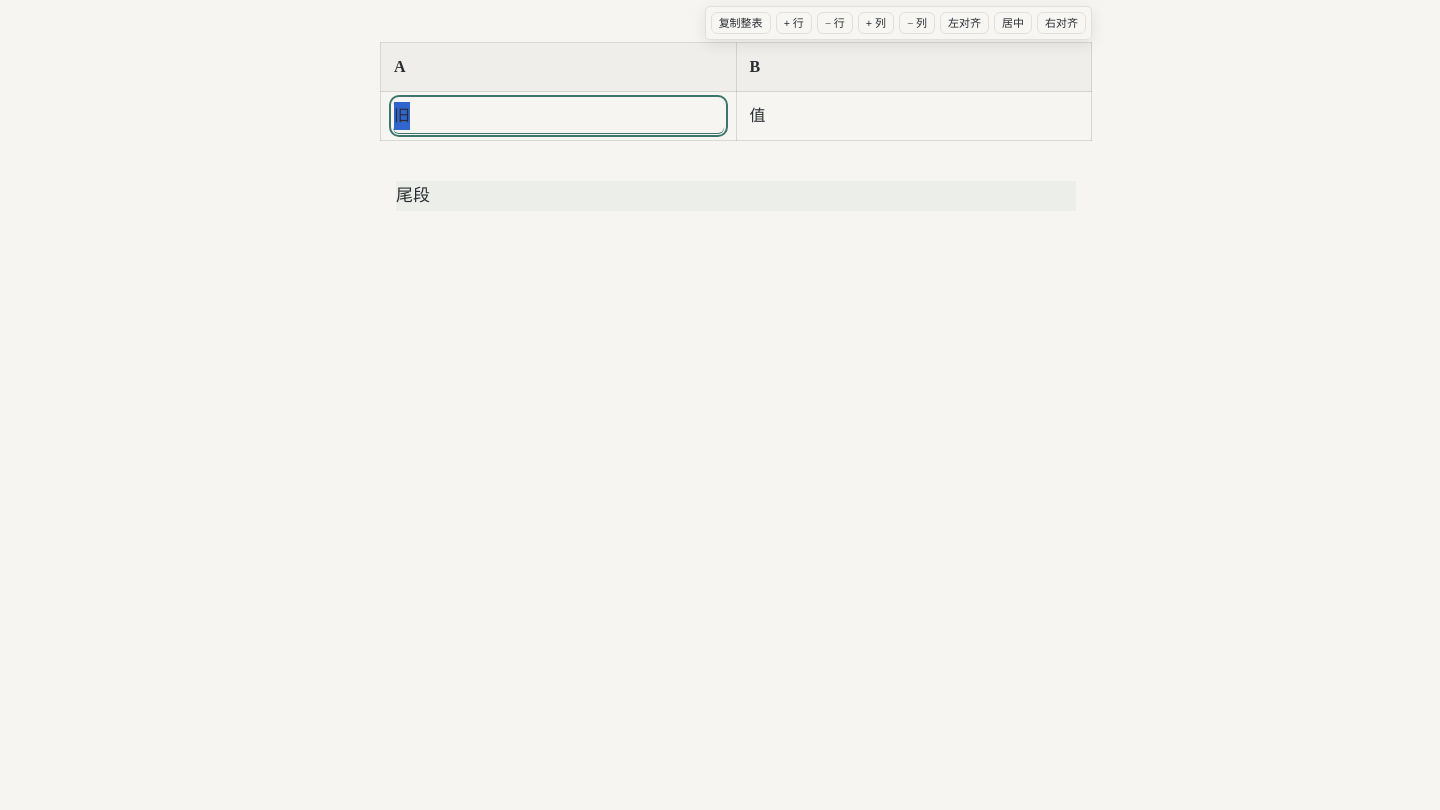
Scenario: uses normal context Paste for a matrix and waits for overwrite confirmation
Right-click the text box named "表格第 2 行第 1 列" at x=558, y=116, box [393,99,724,133]
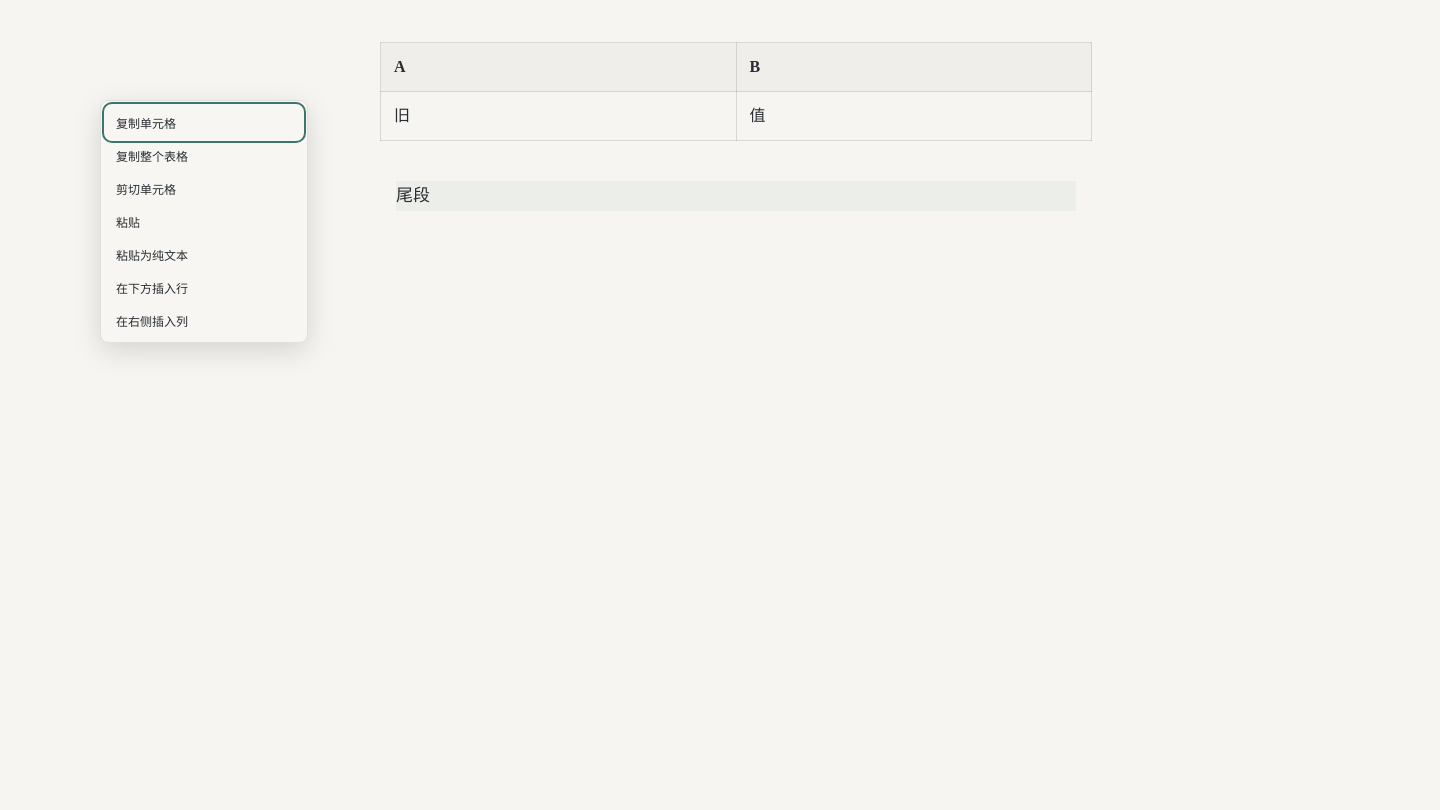
Click the menu item "粘贴" at x=204, y=222, box [106,205,302,238]
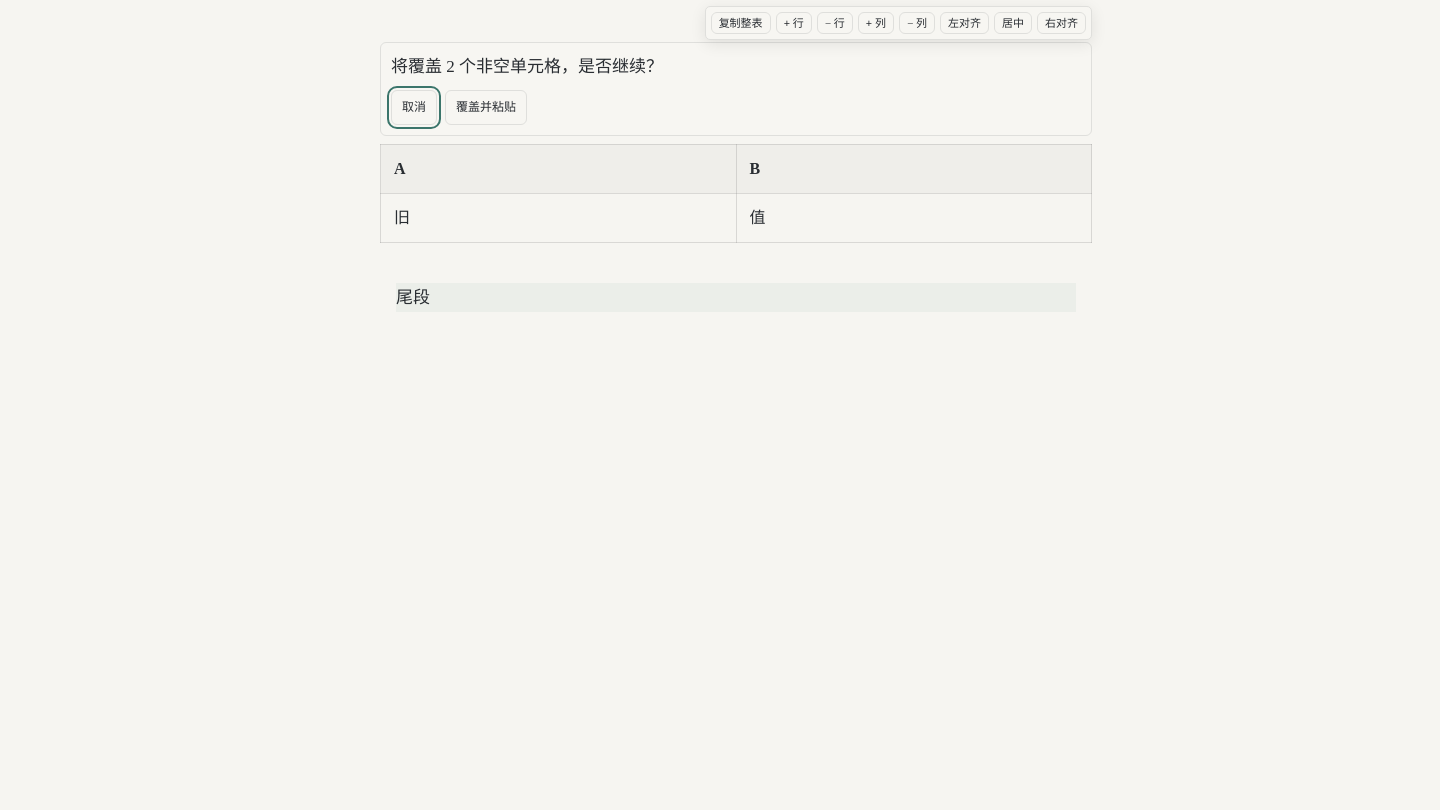
Now the dialog is shown, box [380,42,1092,136]
Click the button "覆盖并粘贴" at x=486, y=107, box [445,90,527,125]
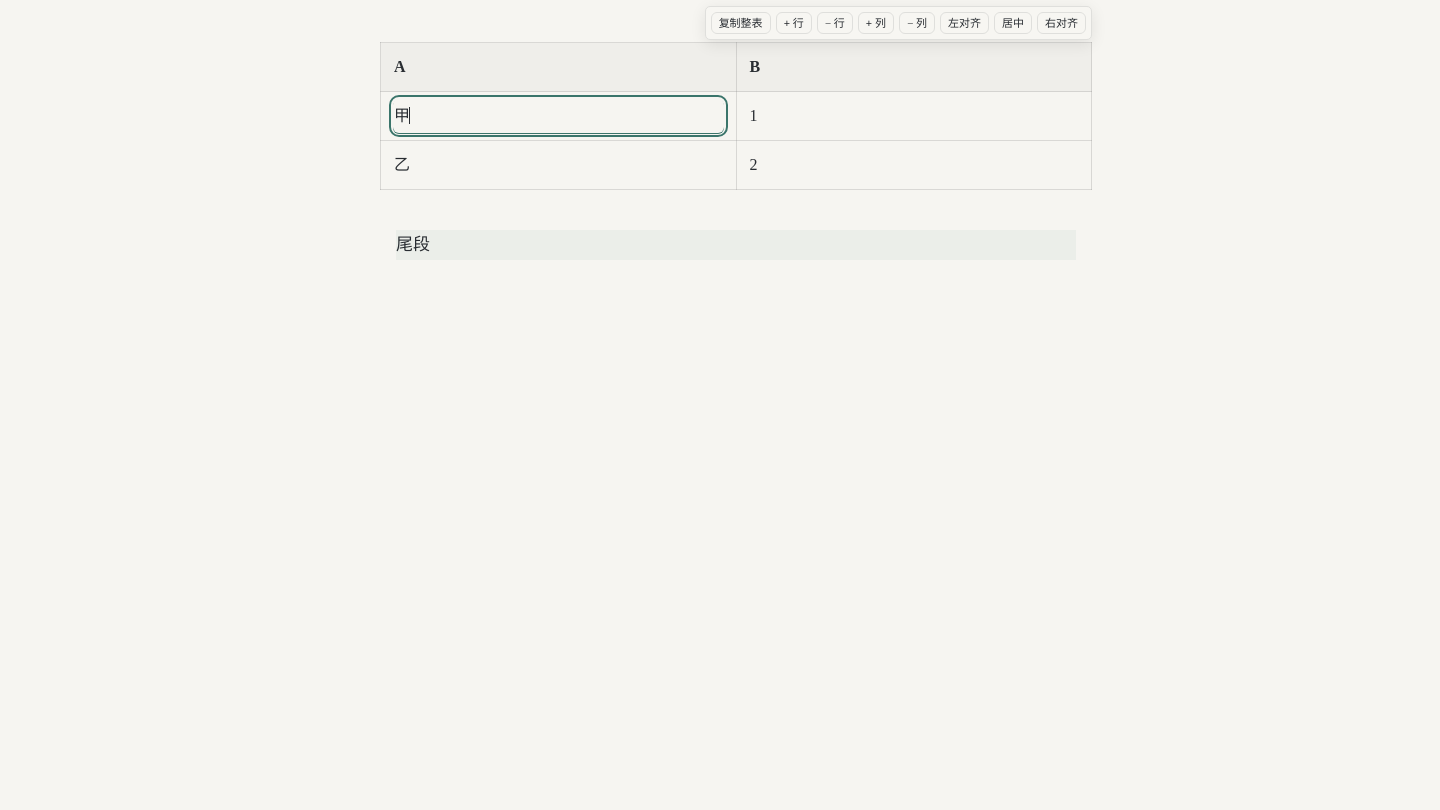
Now the text box named "表格第 2 行第 1 列" holds "甲", box [393,99,724,133]
Now the text box named "表格第 3 行第 1 列" holds "乙", box [393,148,724,182]
